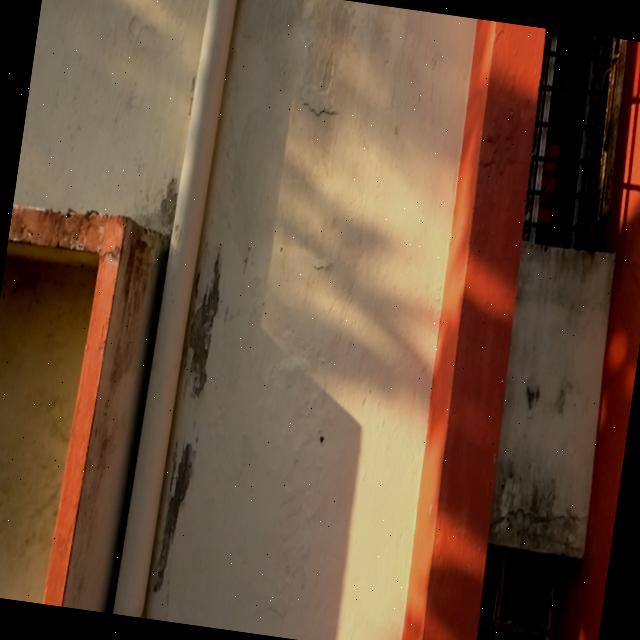stain_mould: (7, 178, 179, 610), (490, 243, 616, 559), (151, 441, 196, 590), (179, 265, 221, 393)
